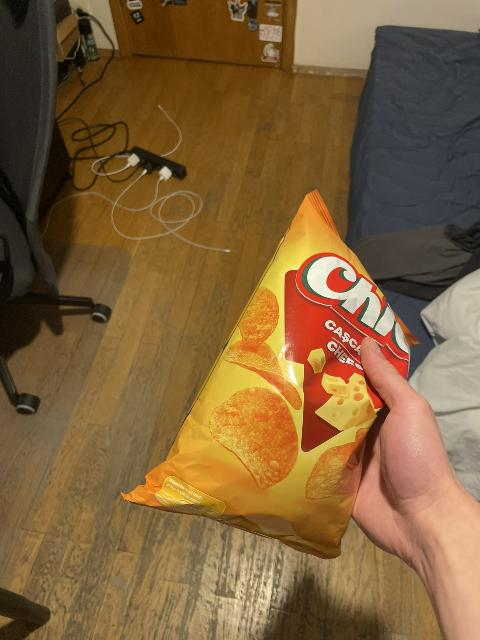Chio Cascaval 125g: (119, 187, 418, 558)
